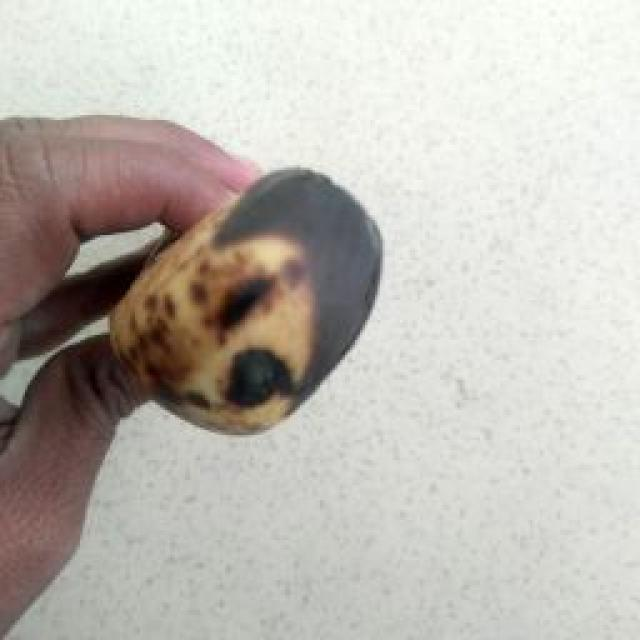banana: (31, 126, 502, 611)
